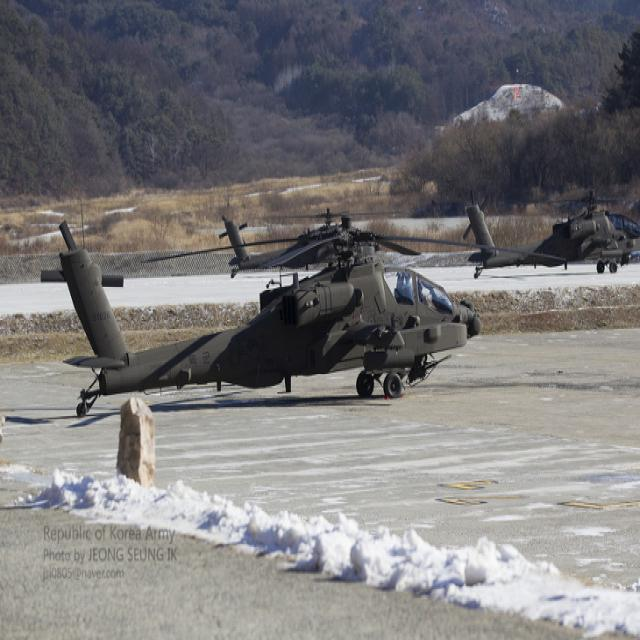Apache: (44, 192, 481, 406), (463, 188, 639, 275)
